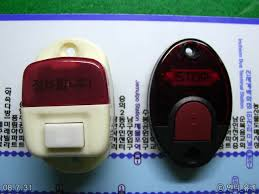bell: (147, 38, 234, 177)
